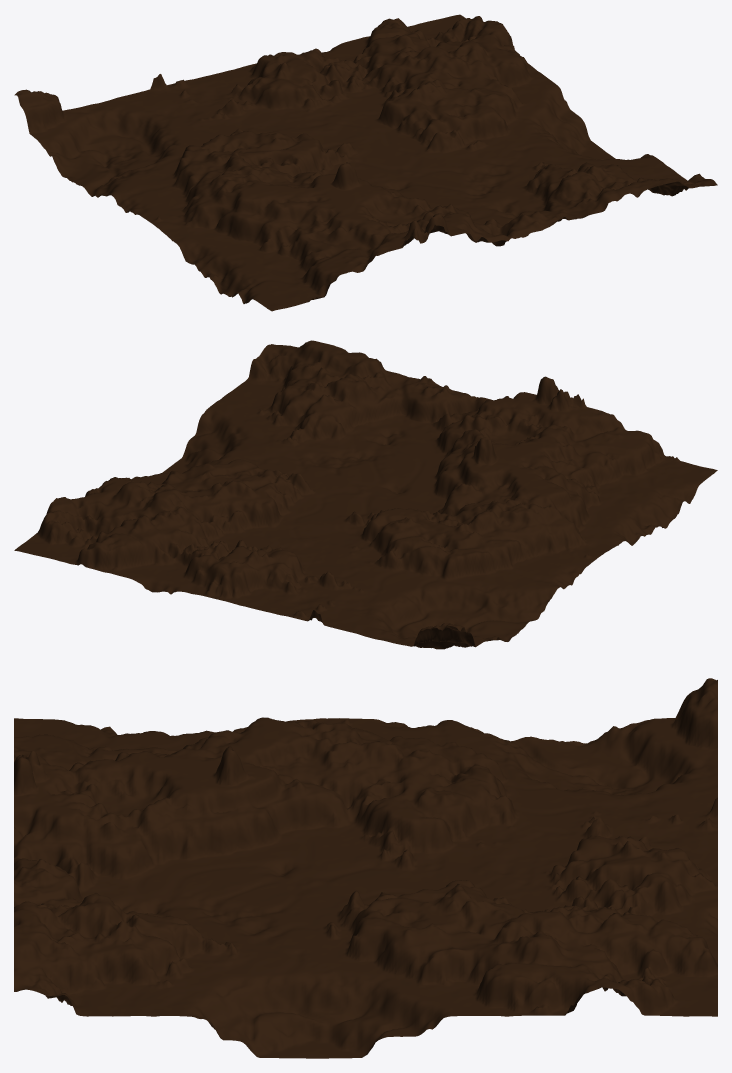
File: 2x2.3_cubes_500m_004.glb
The picture shows the model from 3 angles, top to bottom: view 1: azimuth 30°, elevation 25°; view 2: azimuth 150°, elevation 25°; view 3: azimuth 270°, elevation 25°; orthographic projection. The views are drawn at different scales.
Parts seen in each view (by area): view 1: Cube; view 2: Cube; view 3: Cube.
Part boxes in pixels (<box>): Cube: <box>14,14,717,311</box>; Cube: <box>14,340,717,649</box>; Cube: <box>14,678,717,1058</box>.
Bounding box in the file's own units: 500 × 91.07 × 500.
